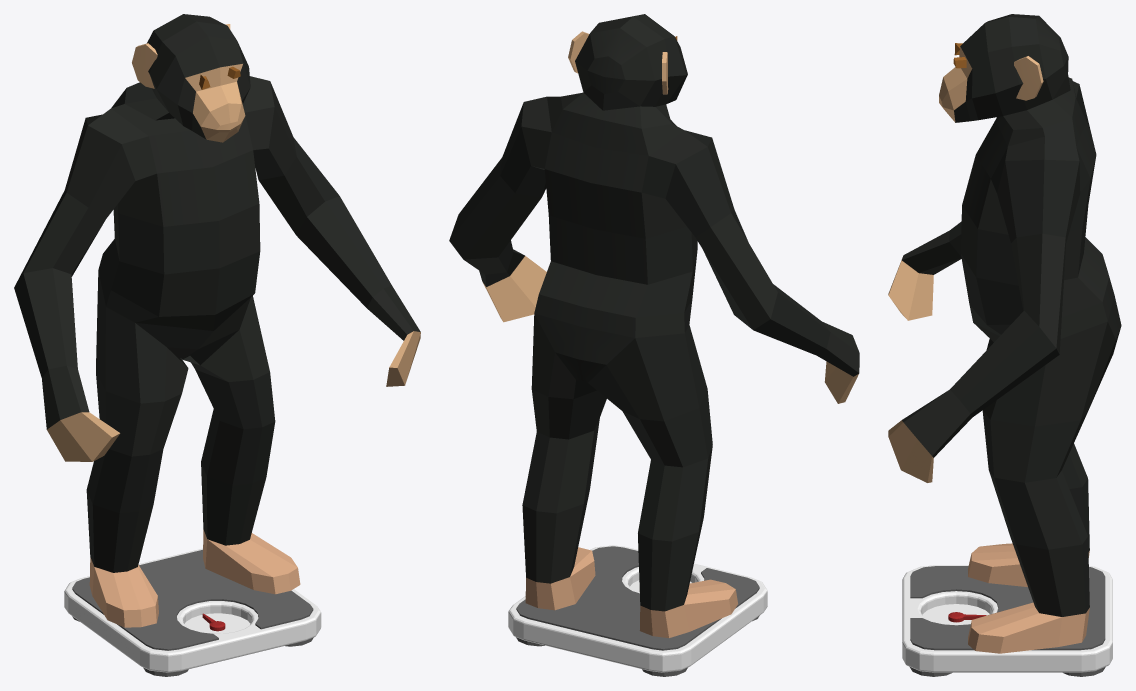
File: cns.obj
3 renders of one model, left to right at view 1: azimuth 30°, elevation 25°; view 2: azimuth 150°, elevation 25°; view 3: azimuth 270°, elevation 25°, orthographic. The views are drawn at different scales.
Parts seen in each view (by area): view 1: Mesh_Chimpanzee, scale; view 2: Mesh_Chimpanzee, scale; view 3: Mesh_Chimpanzee, scale.
Part boxes in pixels (x1,y1,x2,y2): Mesh_Chimpanzee: (14,14,420,627); scale: (64,548,321,676); Mesh_Chimpanzee: (449,14,859,637); scale: (508,545,767,676); Mesh_Chimpanzee: (888,14,1121,653); scale: (902,565,1112,676).
Size of the model in its own units: 80.29 by 124 by 42.09.
2 materials, 2 textured.
